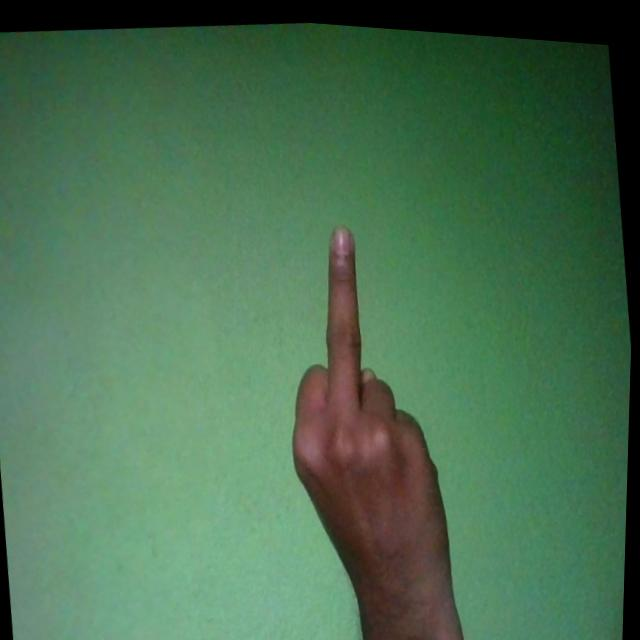Middle Finger: (266, 205, 468, 635)
